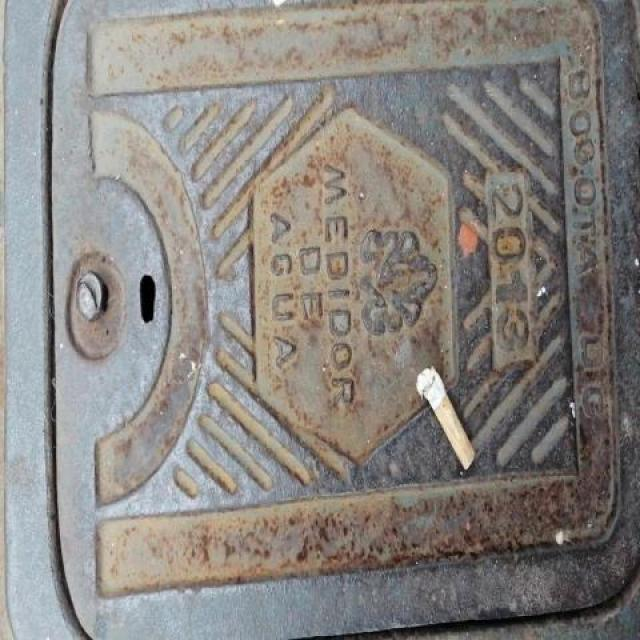non-organic waste: (414, 361, 479, 476)
